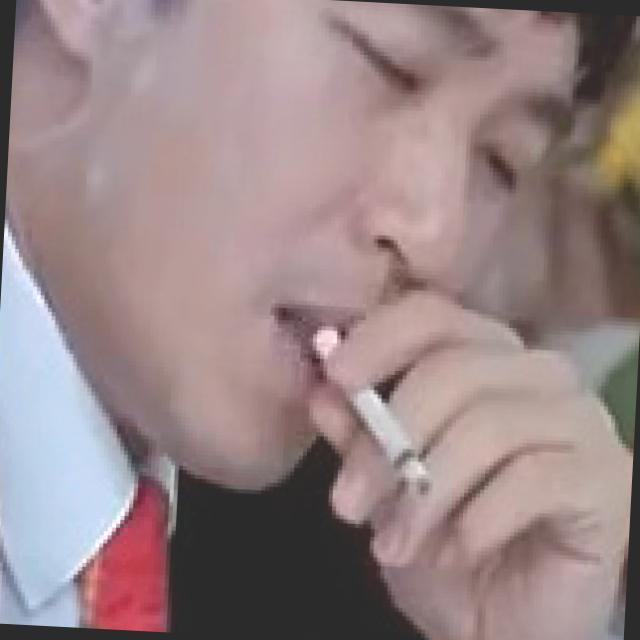cigarette: (360, 374, 441, 501)
